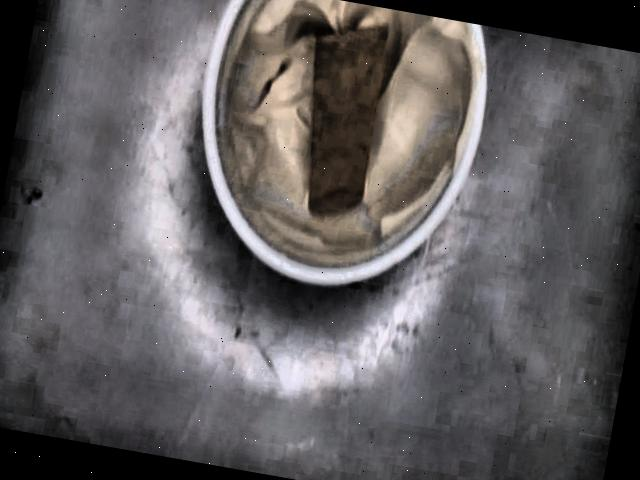Almennt: (201, 0, 489, 284)
